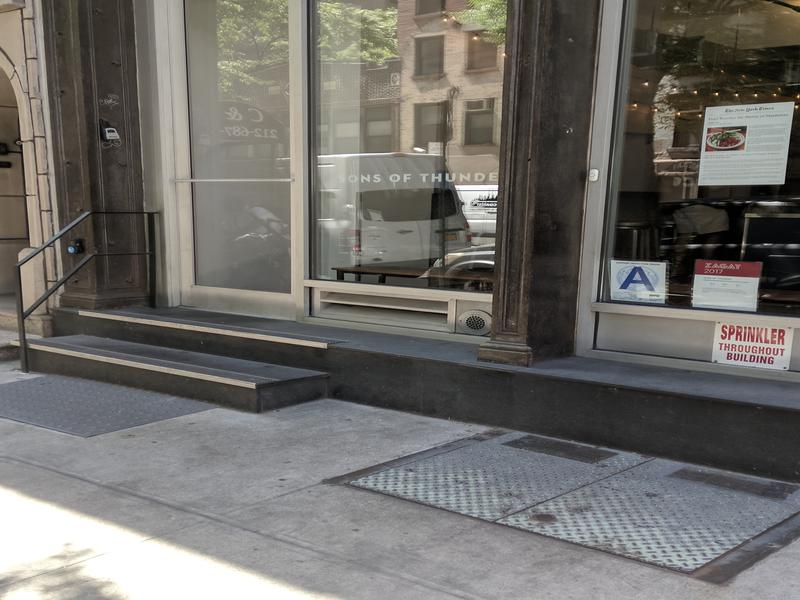door: (167, 4, 317, 322)
